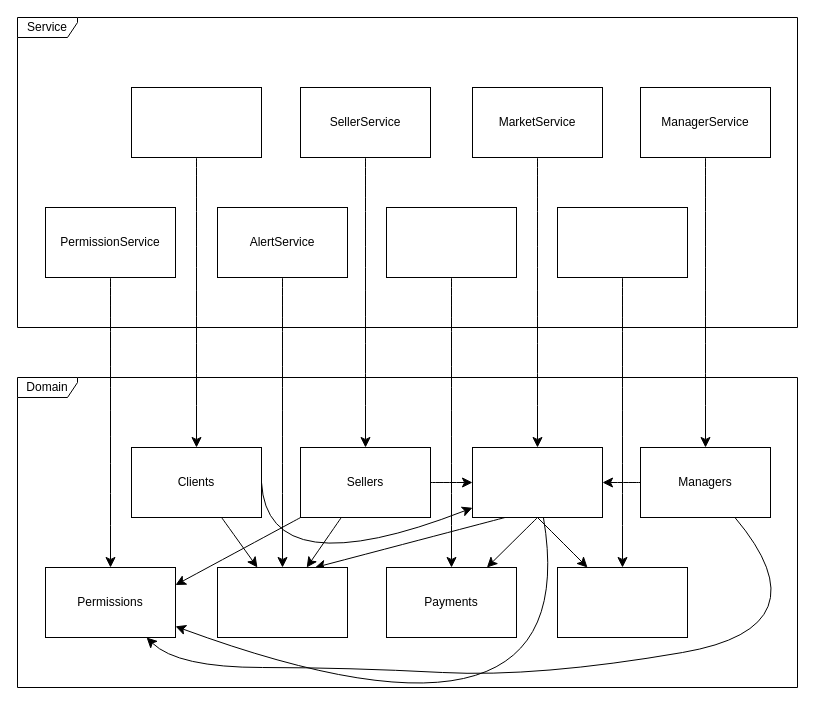
Some shapes in this 815 by 705 pixel diagram are drawn without their labels. Each missing label, with the centre of its shape:
"Alerts" goes at (282,602).
"ClientService" goes at (196,122).
"Markets" goes at (537,482).
"PaymentService" goes at (451,242).
"Supplies" goes at (622,602).
"SupplyService" goes at (622,242).
